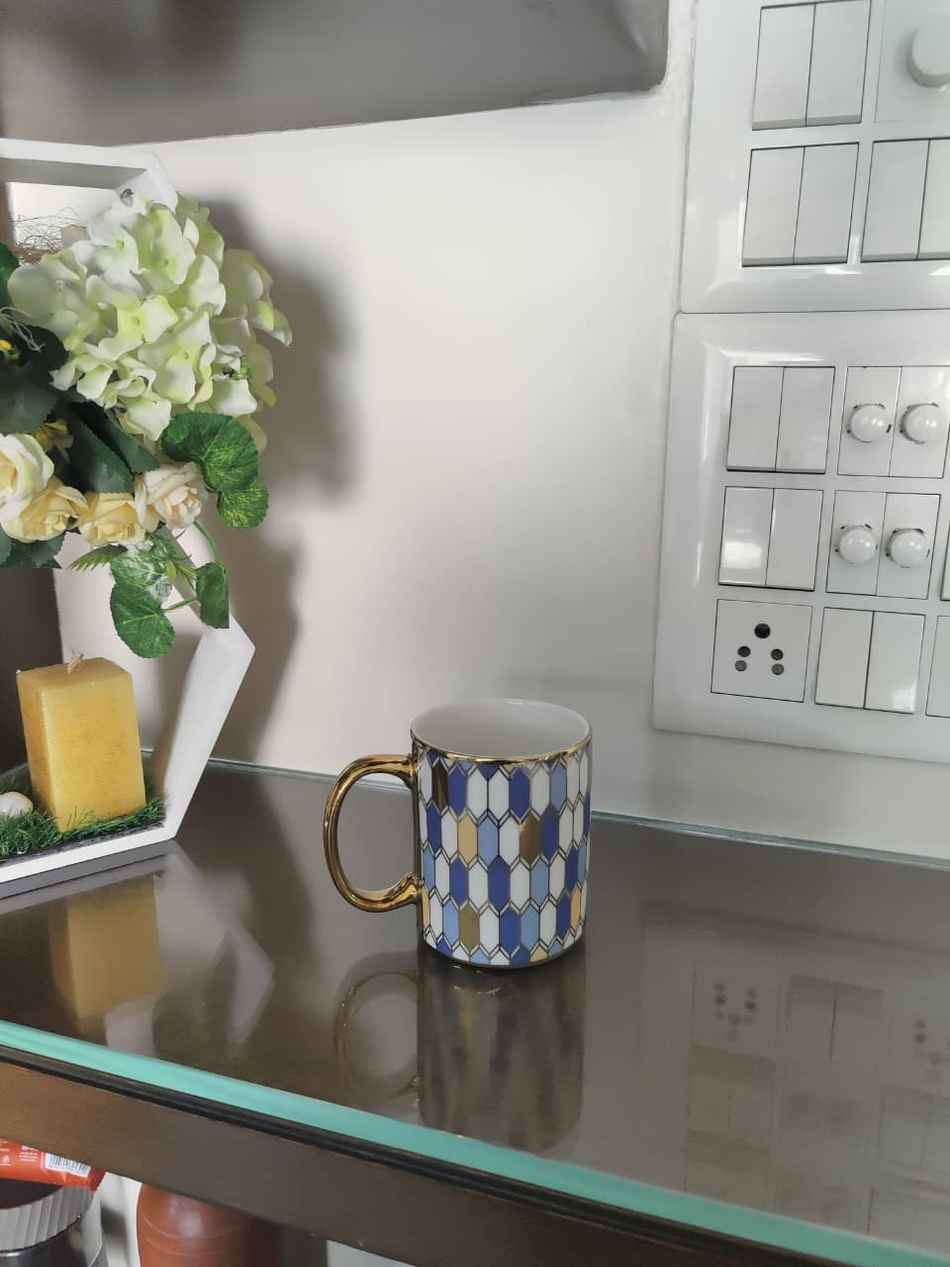cup: (322, 695, 592, 973)
